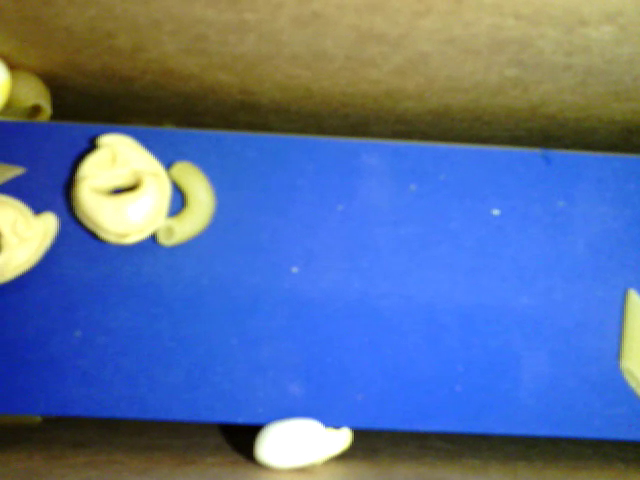elbow: (155, 160, 218, 249)
penne: (617, 290, 639, 396)
shell: (1, 69, 55, 126)
tortellini: (63, 132, 175, 245), (1, 192, 61, 288)
